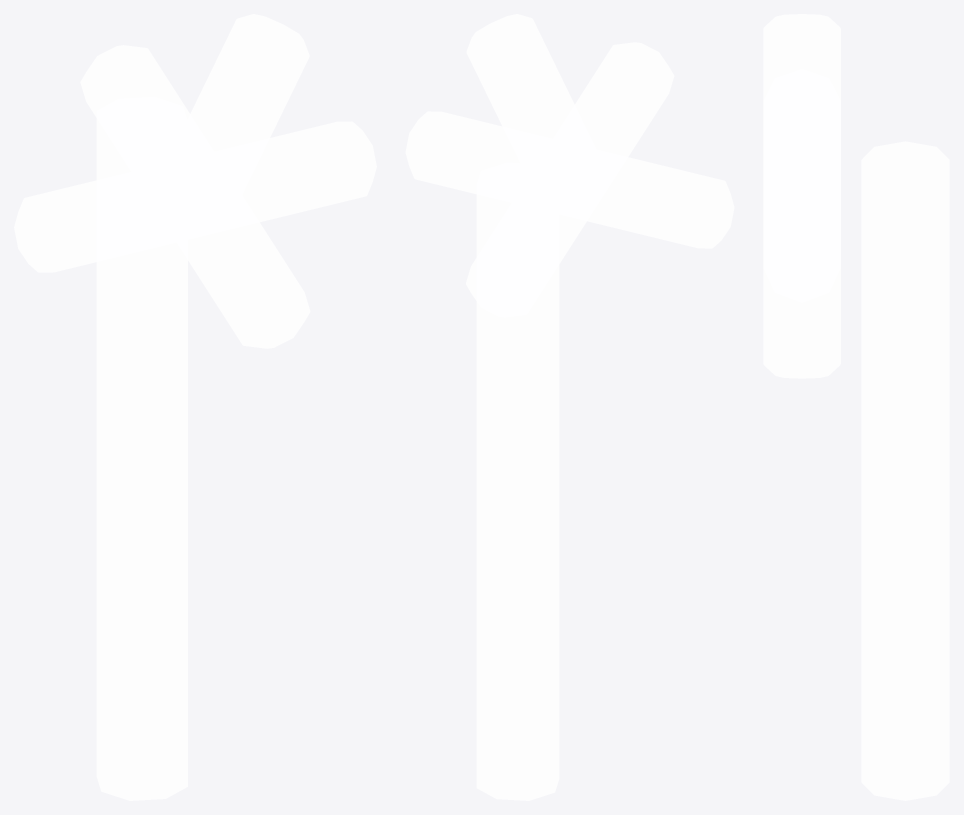
File: I-DLE_LICHT.glb
3 views of the same model, side by side, from view 1: azimuth 30°, elevation 25°; view 2: azimuth 150°, elevation 25°; view 3: azimuth 270°, elevation 25° (orthographic). The views are drawn at different scales.
Visible parts, largest first — view 1: I-DLE_LICHT; view 2: I-DLE_LICHT; view 3: I-DLE_LICHT.
Boxes of the visible parts, x1,y1,x2,y2 form: I-DLE_LICHT: [14, 14, 376, 800]; I-DLE_LICHT: [405, 14, 734, 800]; I-DLE_LICHT: [763, 14, 949, 800].
Bounding box in the file's own units: 0.2256 × 0.5073 × 0.1161.
1 material, 1 textured.
